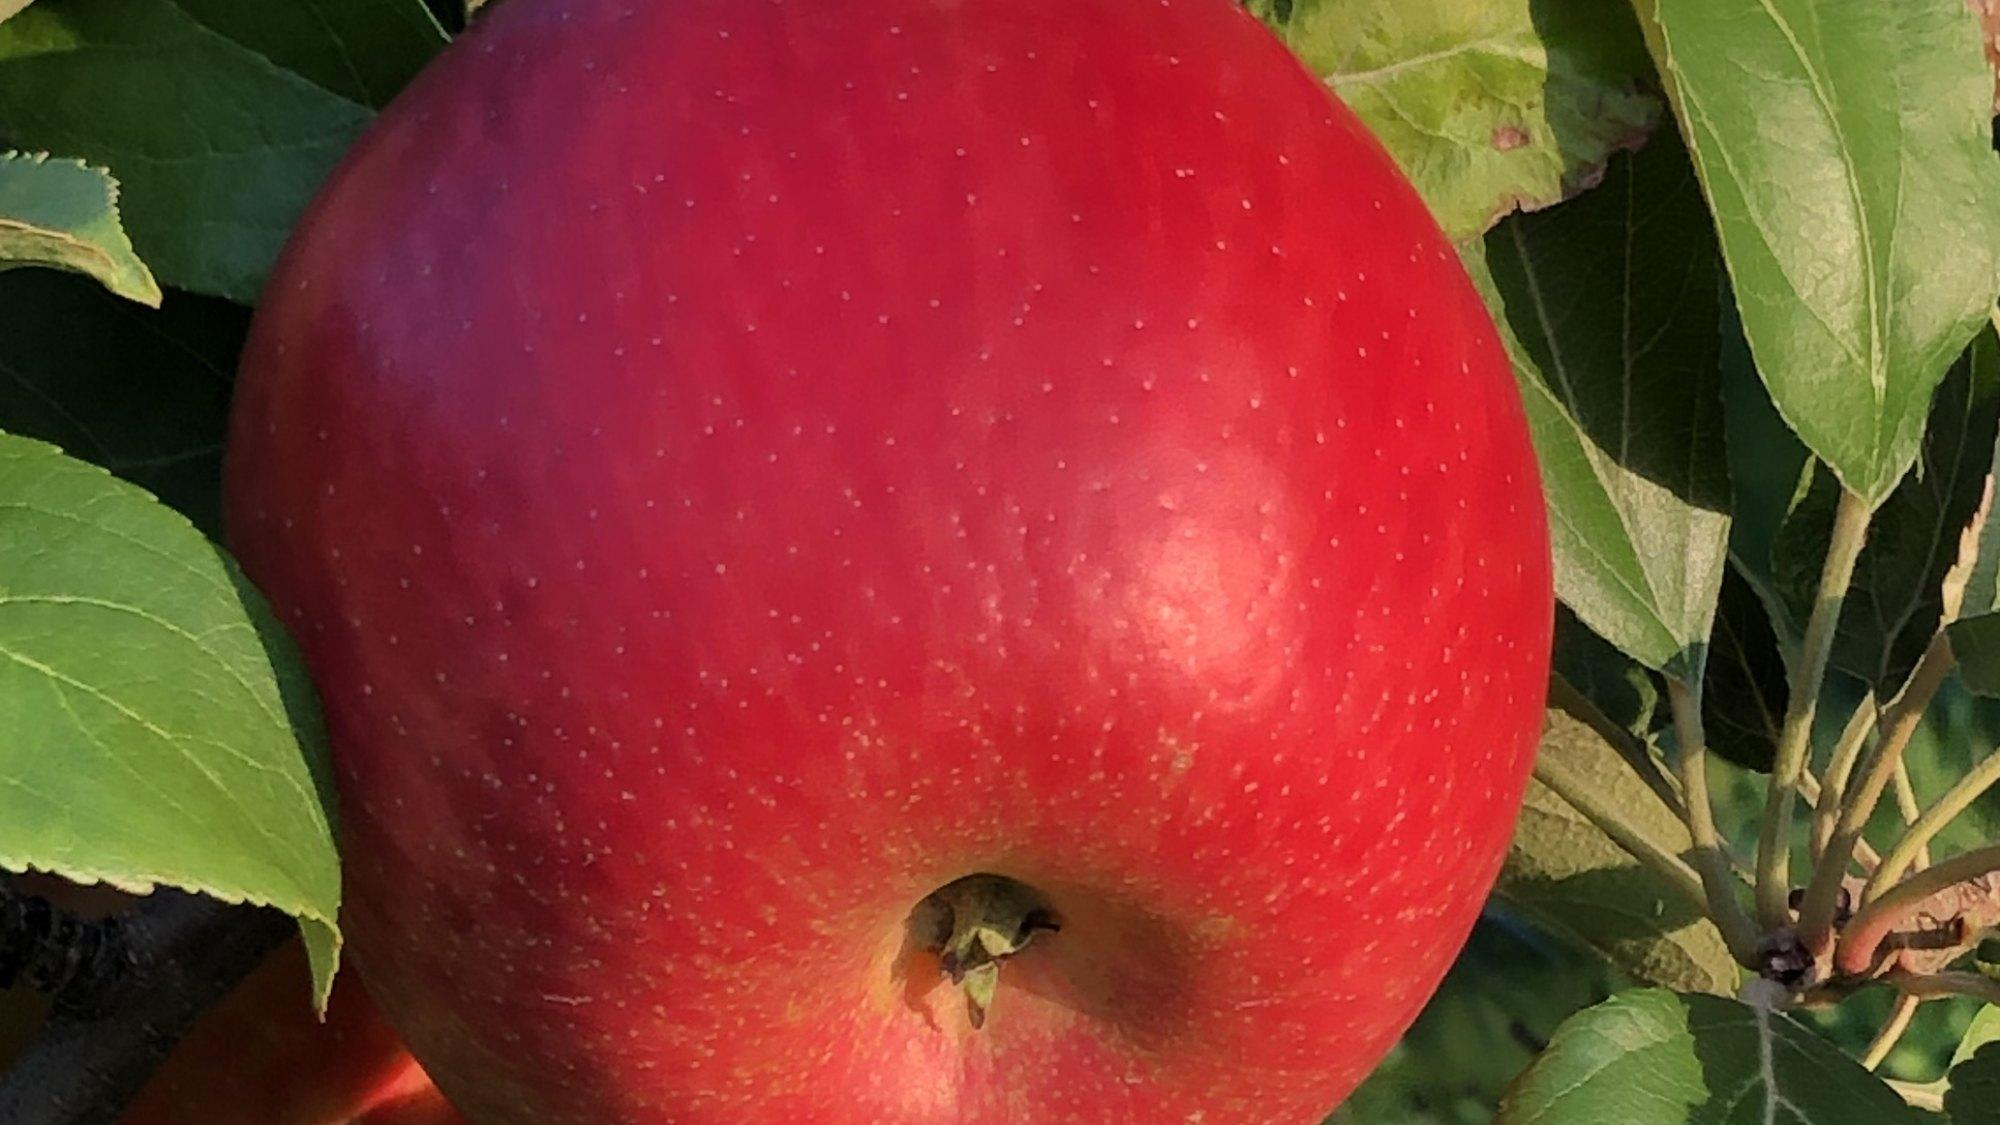apple: (229, 15, 1549, 1115)
